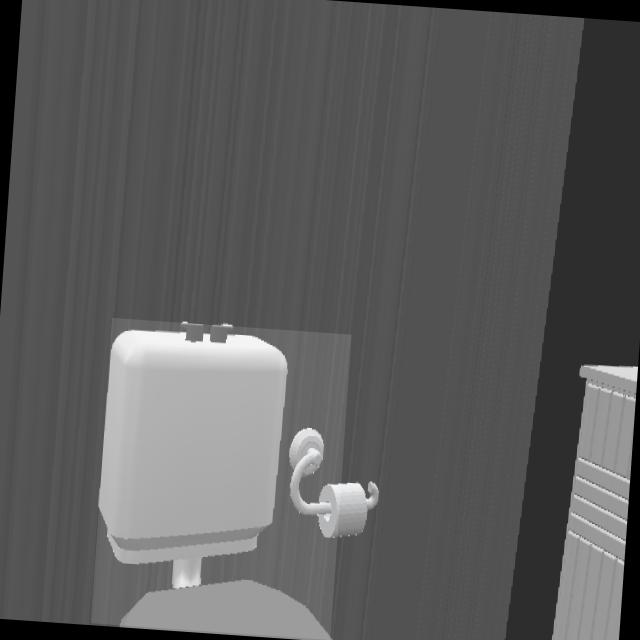toilet: (99, 323, 330, 639)
